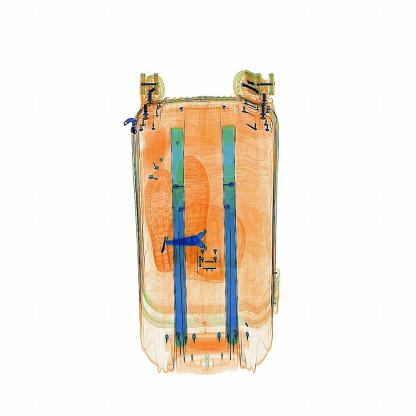gun: (160, 218, 233, 262)
